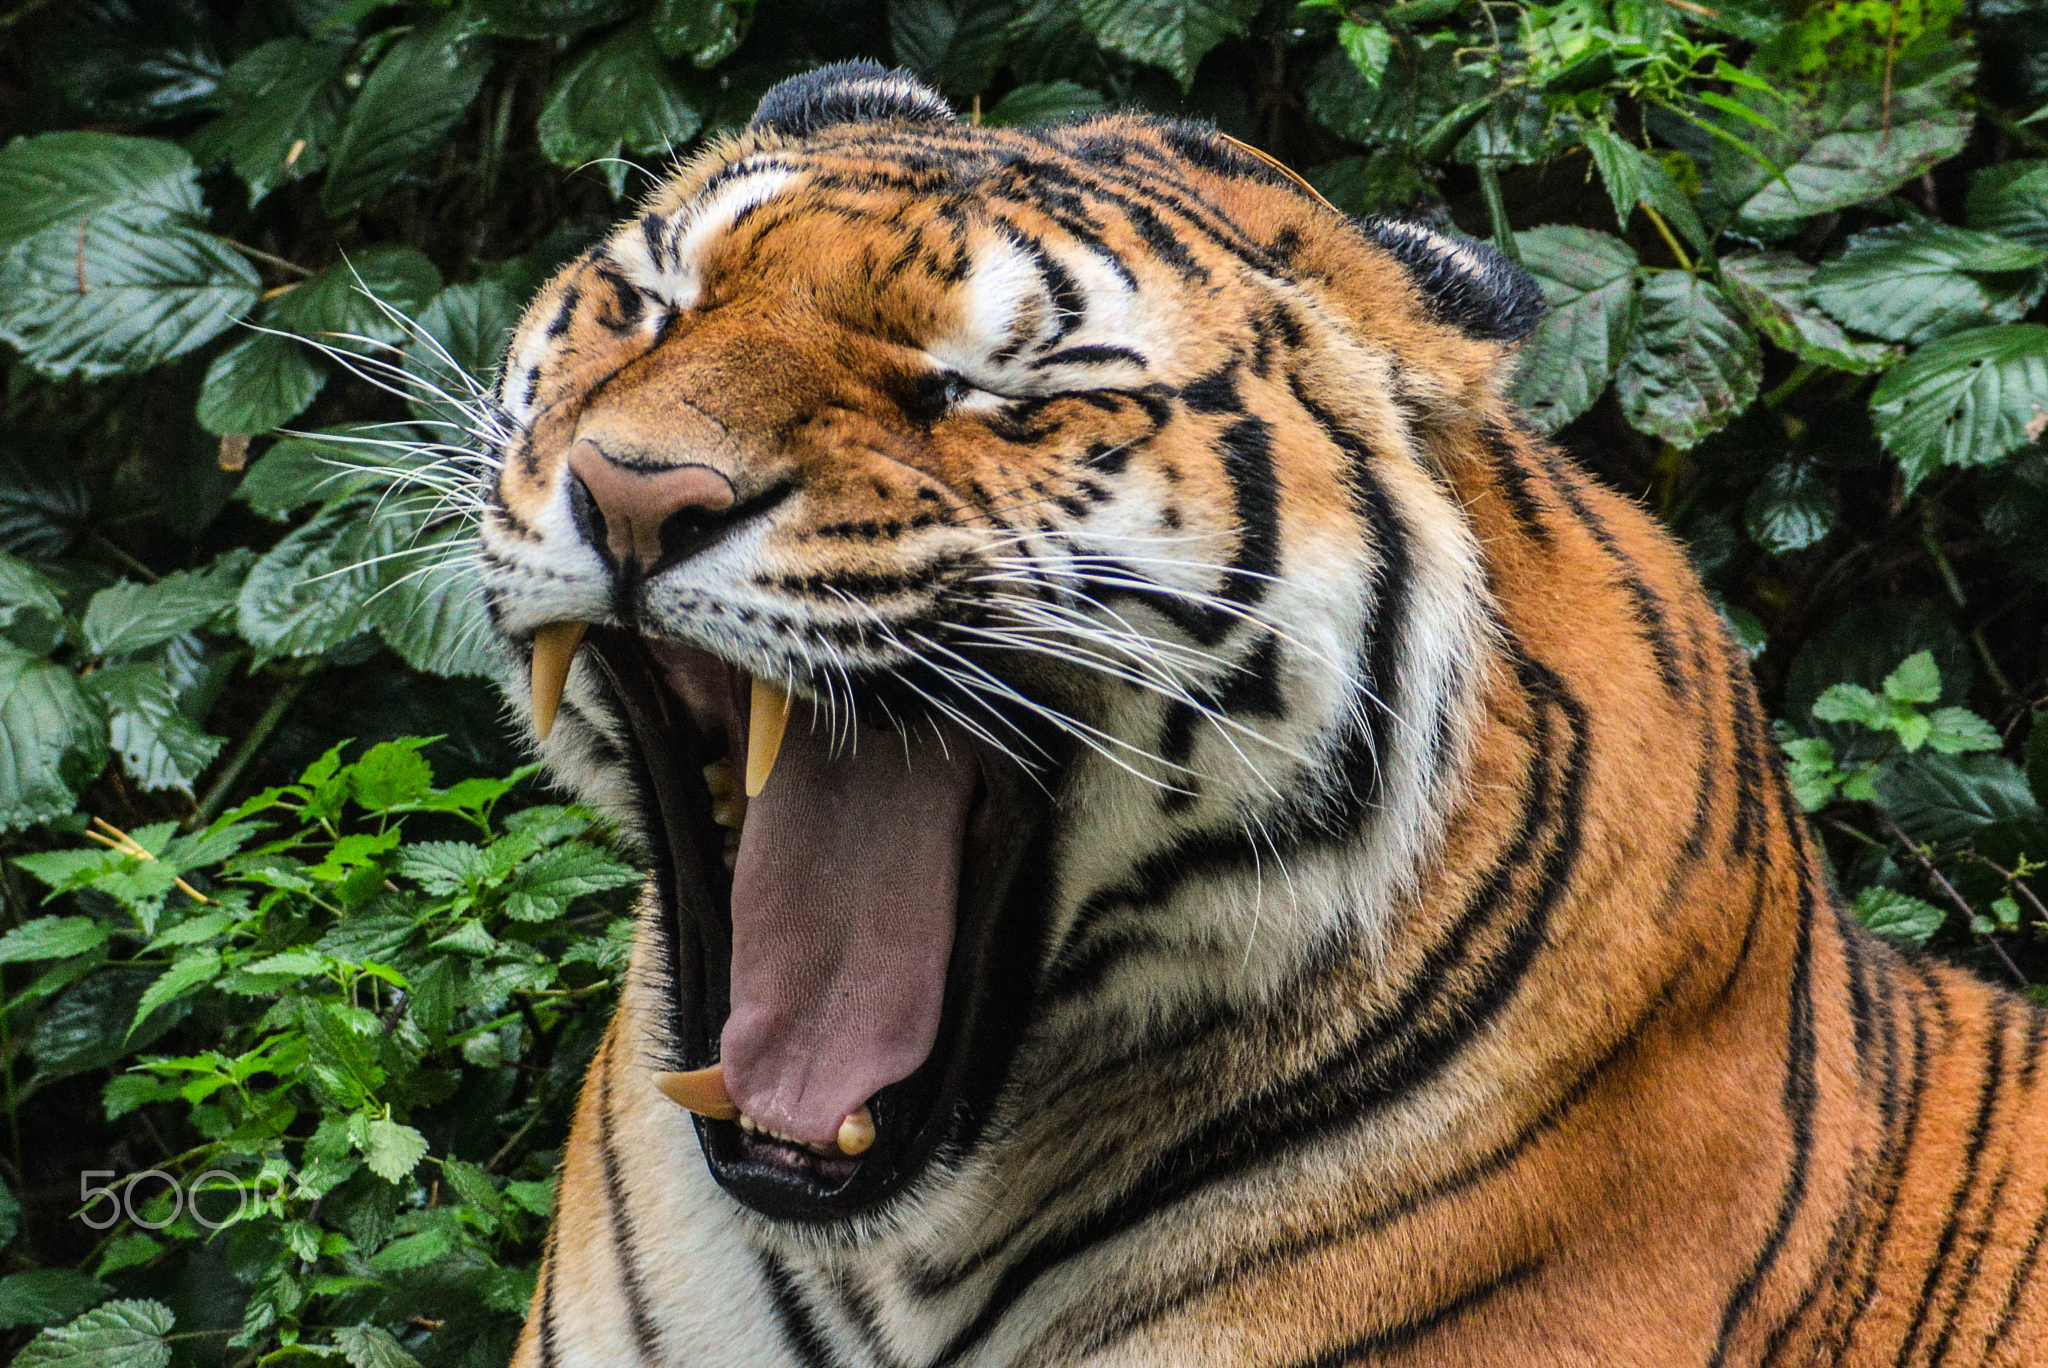tiger: (391, 92, 1873, 1302)
